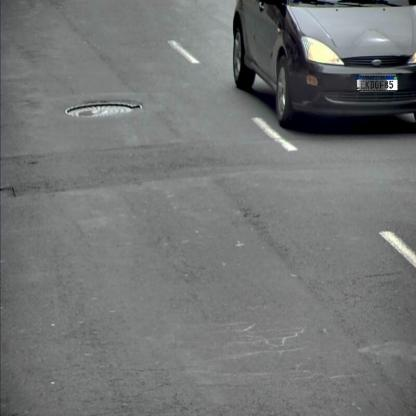PlacaM: (356, 75, 399, 91)
